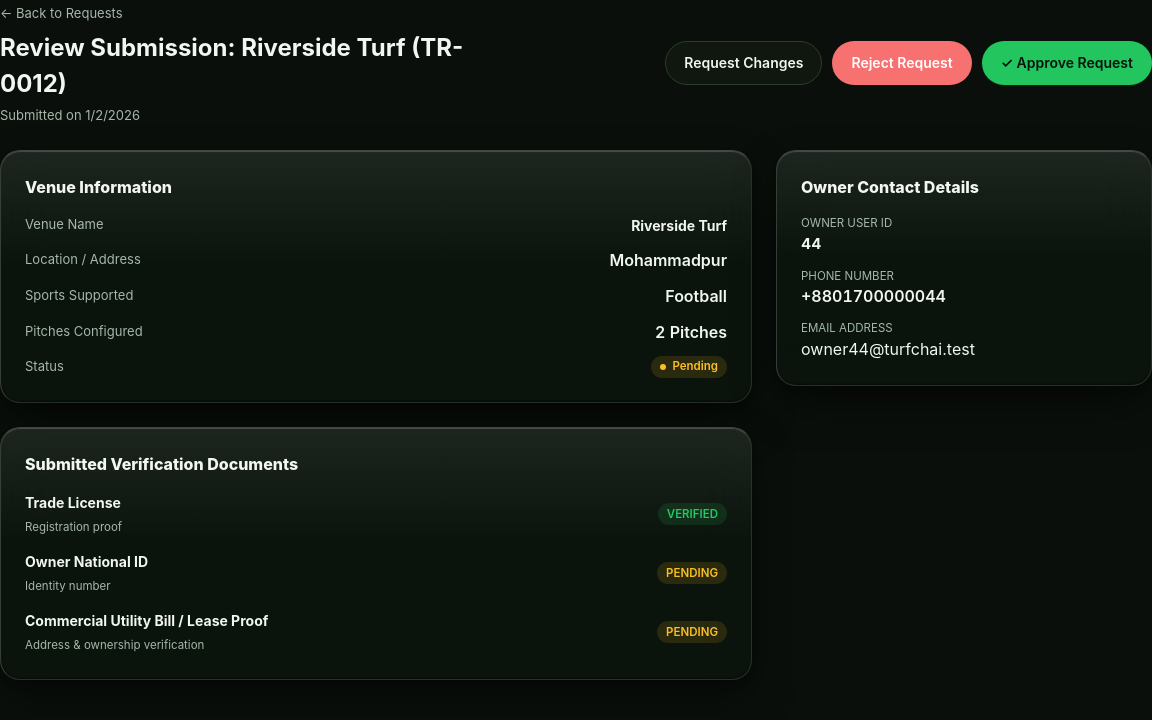
Admin RequestReviewPage — approving and rejecting › does not announce an approval the server refused
The image size is (1152, 720).
expect the heading "Review Submission: Riverside Turf (TR-0012)" is shown: met, box [0,30,480,102]
Click the button "✓ Approve Request": (1067, 63) [982,41,1151,85]
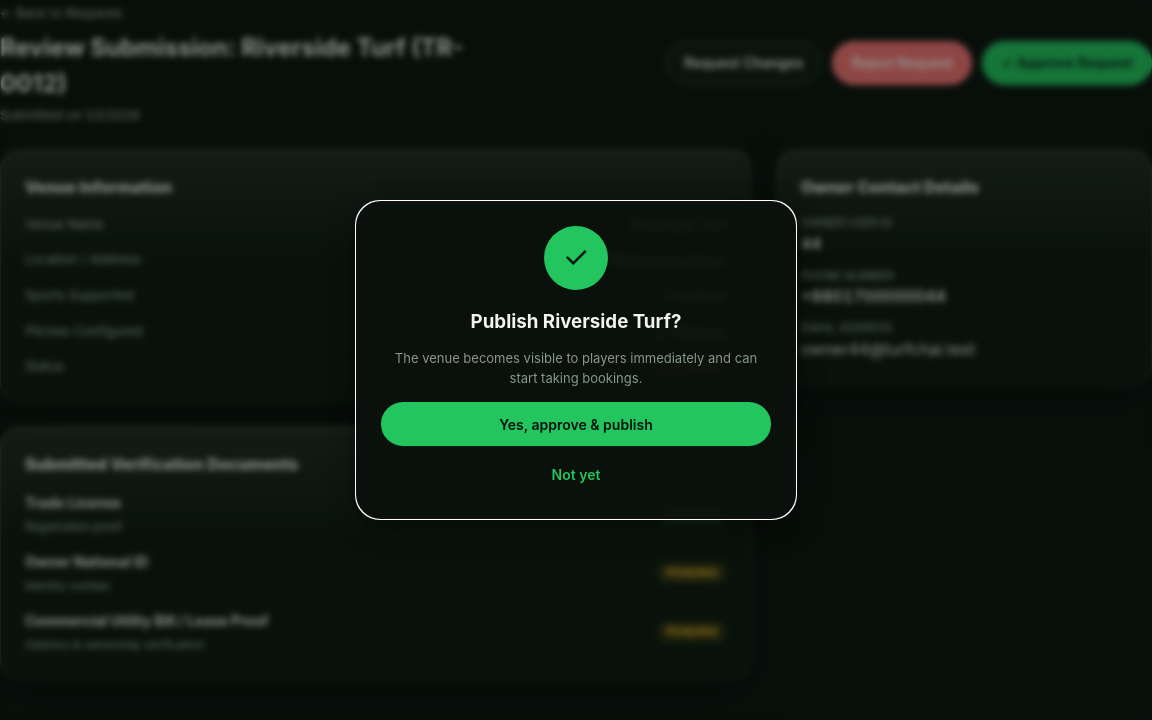
Click the button "Yes, approve & publish": (576, 424) [381,402,771,446]
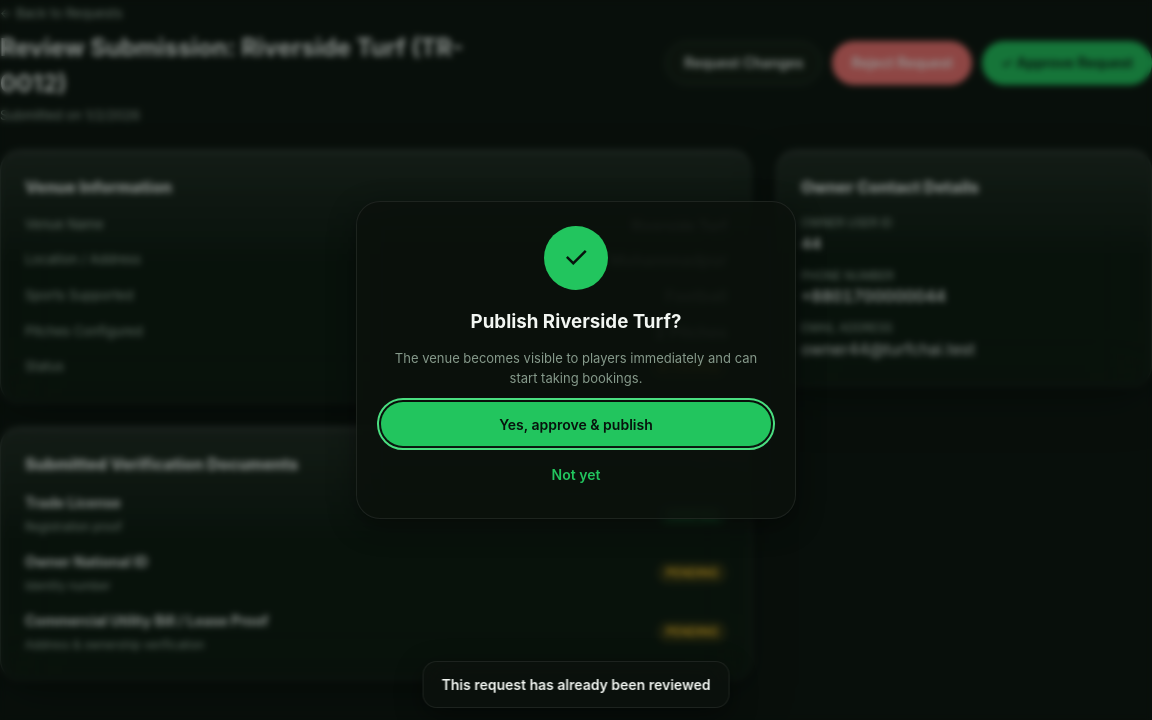
expect the text "This request has already been reviewed" is shown: met, box [422,661,730,708]
